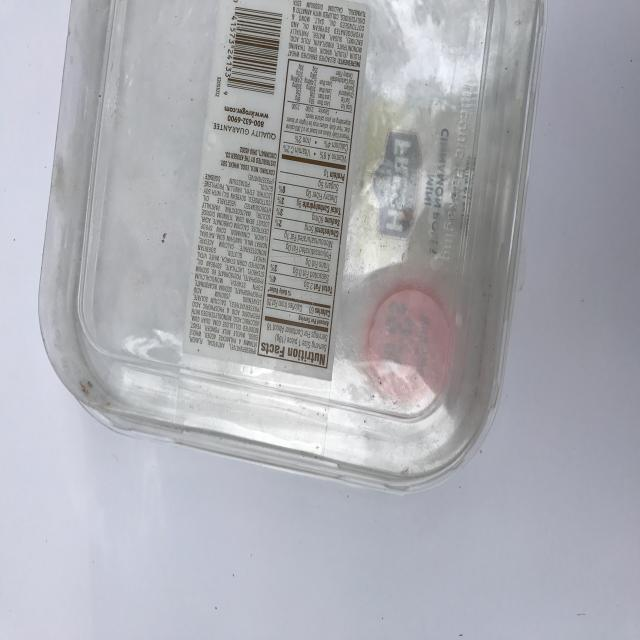plastic: (38, 0, 550, 494)
